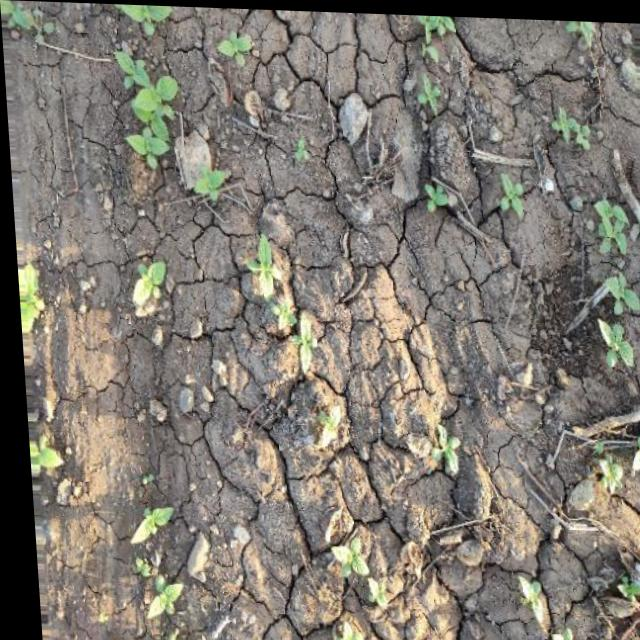weed: (84, 41, 248, 216), (566, 179, 639, 404), (237, 236, 333, 378), (117, 499, 183, 633), (317, 527, 403, 616), (411, 158, 528, 214), (115, 255, 176, 321), (547, 94, 595, 151)
